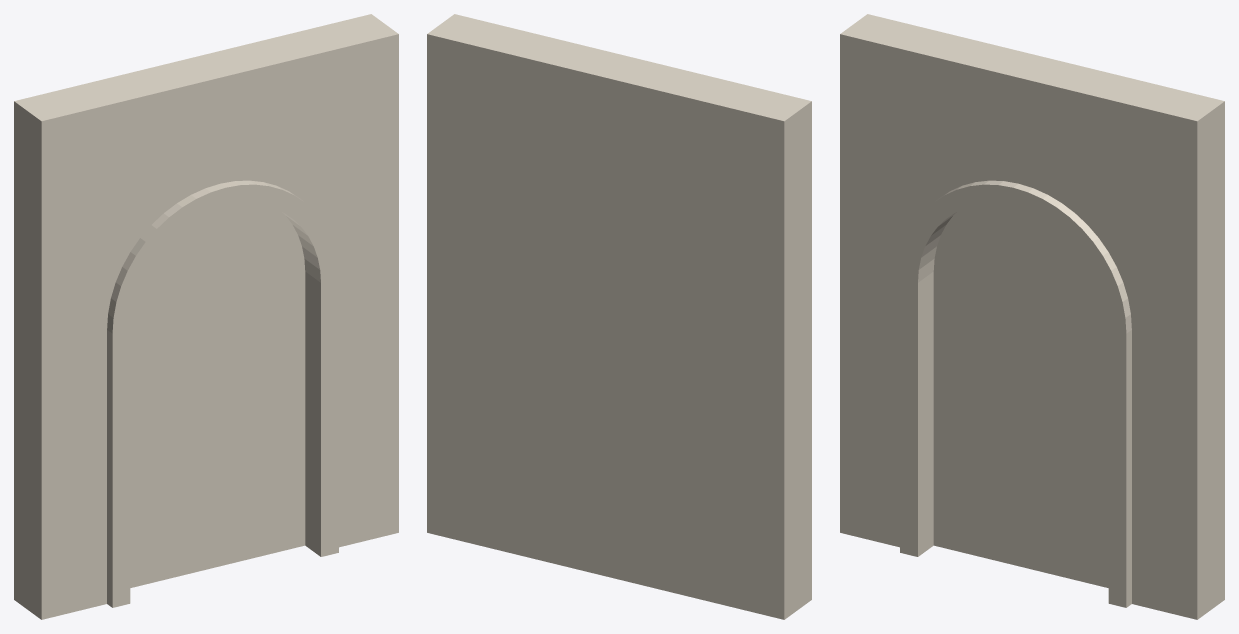
File: arch_wall.fbx
3 views of the same model, side by side, from view 1: azimuth 30°, elevation 25°; view 2: azimuth 150°, elevation 25°; view 3: azimuth 330°, elevation 25° (orthographic).
Parts seen in each view (by area): view 1: ArchWall; view 2: ArchWall; view 3: ArchWall.
Boxes of the visible parts, bbox=[...] form: ArchWall: bbox=[14, 14, 398, 619]; ArchWall: bbox=[427, 14, 811, 619]; ArchWall: bbox=[840, 14, 1224, 619].
Bounding box in the file's own units: 1404 × 1872 × 225.
